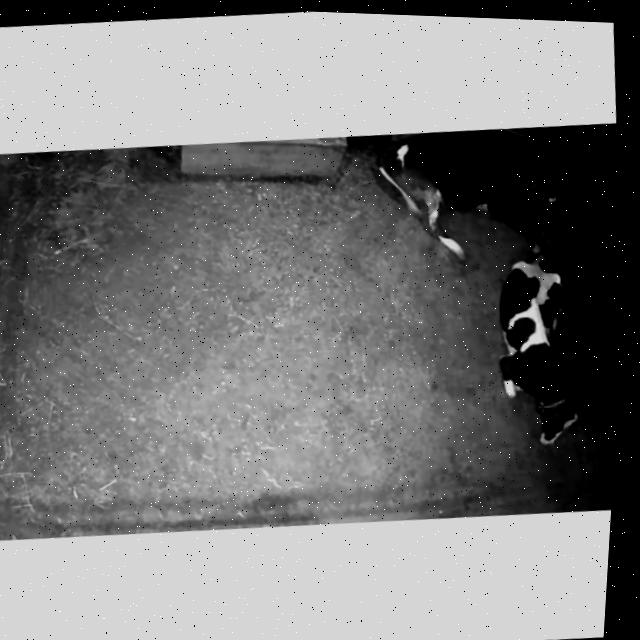lay: (359, 115, 598, 274), (473, 242, 603, 464)
